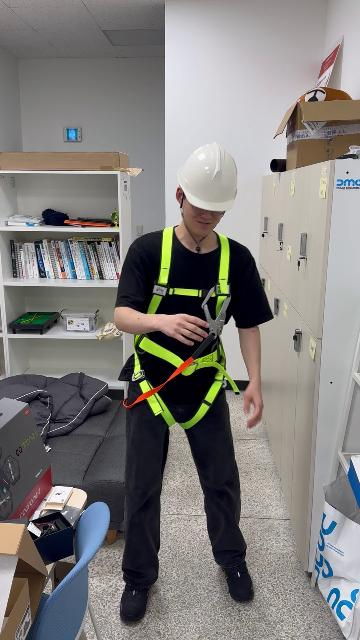helmet_worn: (176, 142, 240, 211)
shoe_worn: (221, 561, 253, 602), (119, 583, 151, 622)
vest_worn: (129, 234, 236, 420)
